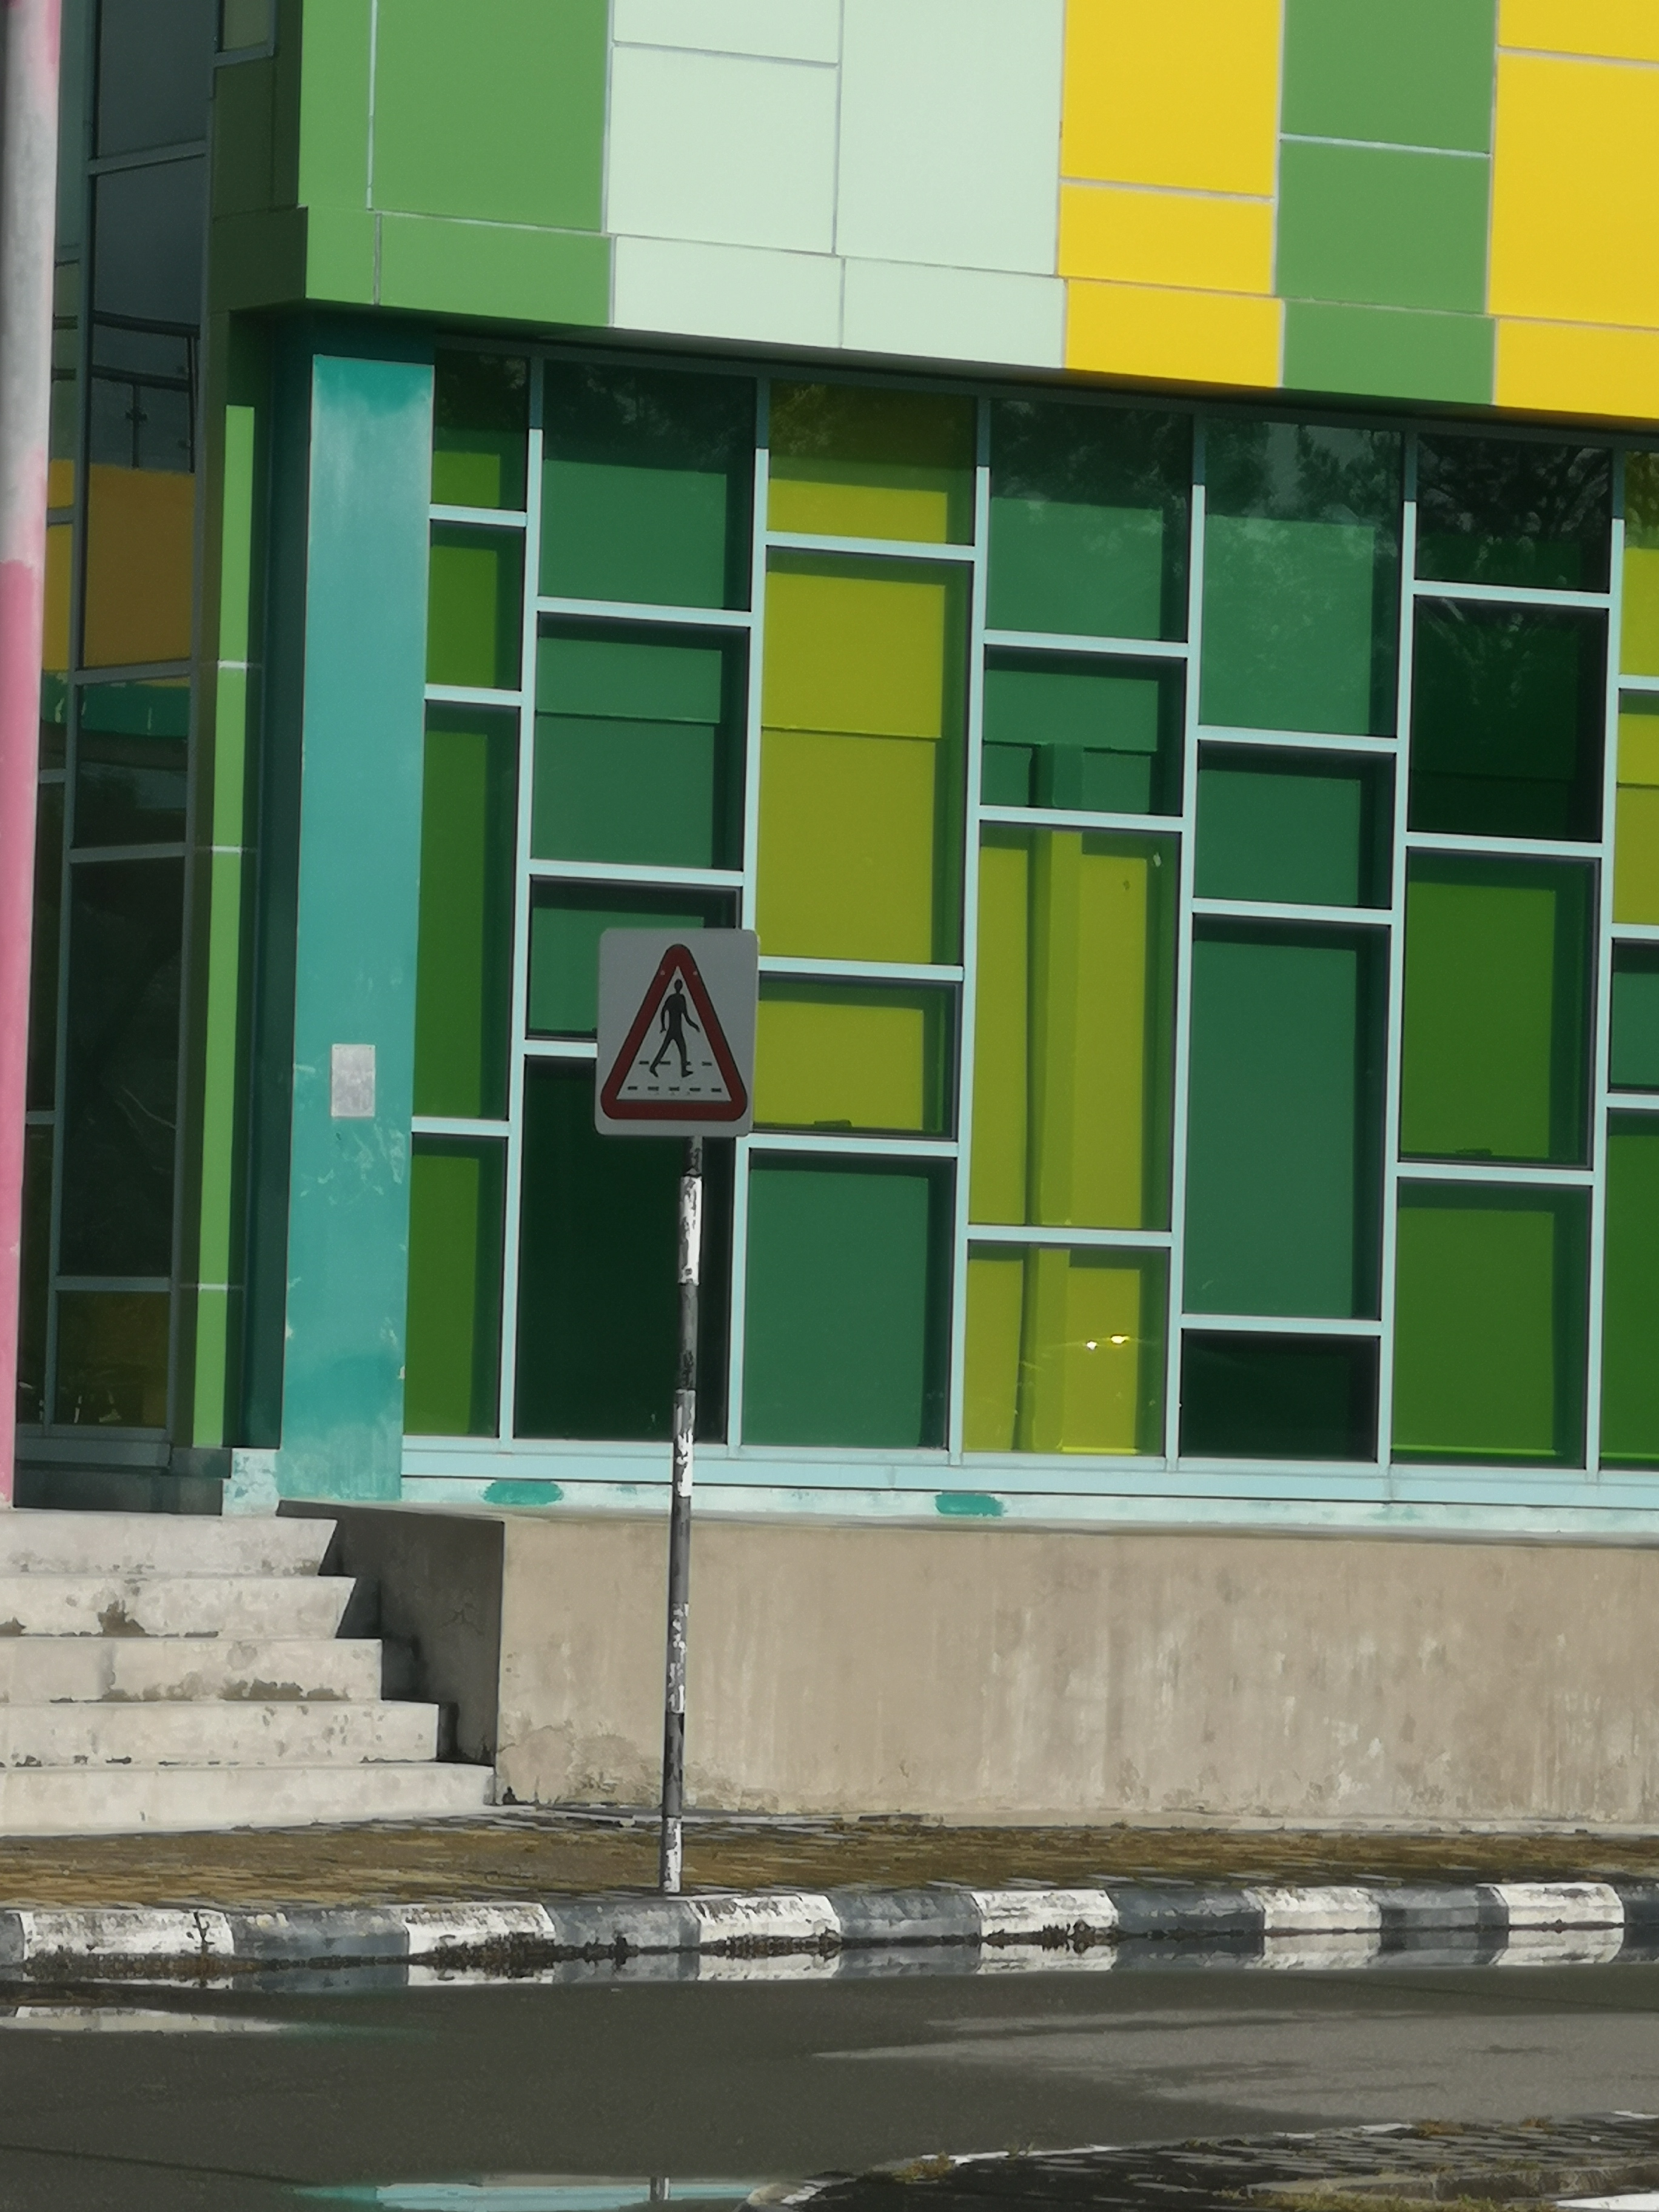pedestrian crossing: (591, 928, 775, 1136)
